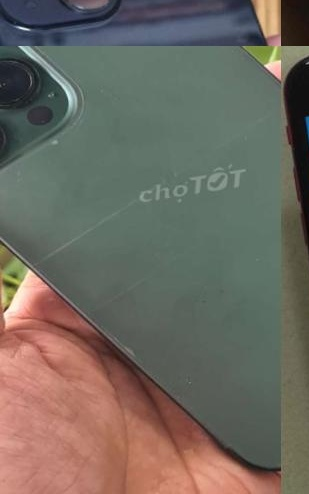scratch: (0, 83, 281, 337)
